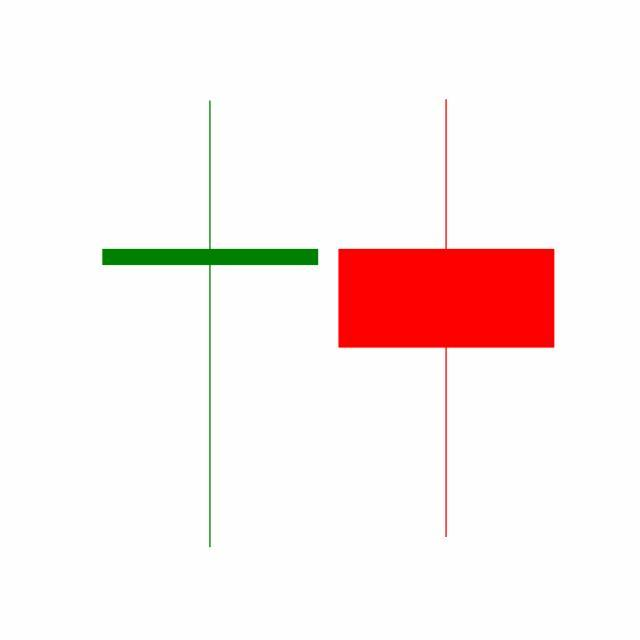Spinning Top: (328, 95, 566, 543)
